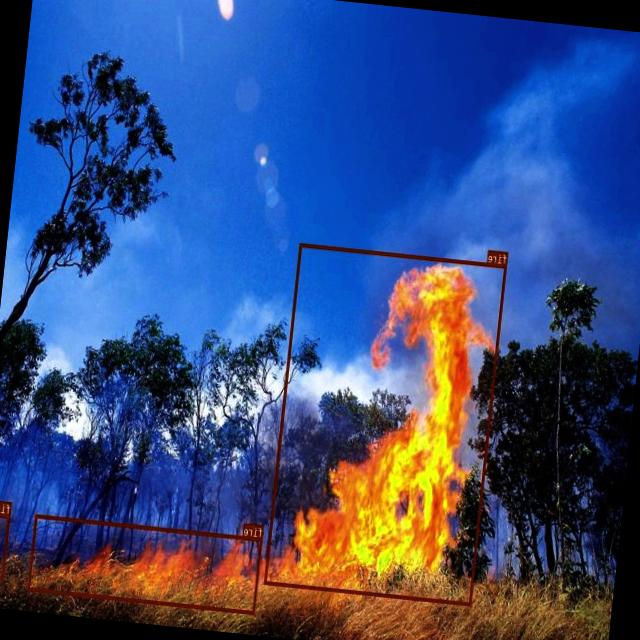fire: (264, 242, 507, 606), (28, 514, 262, 614), (0, 511, 10, 579)
